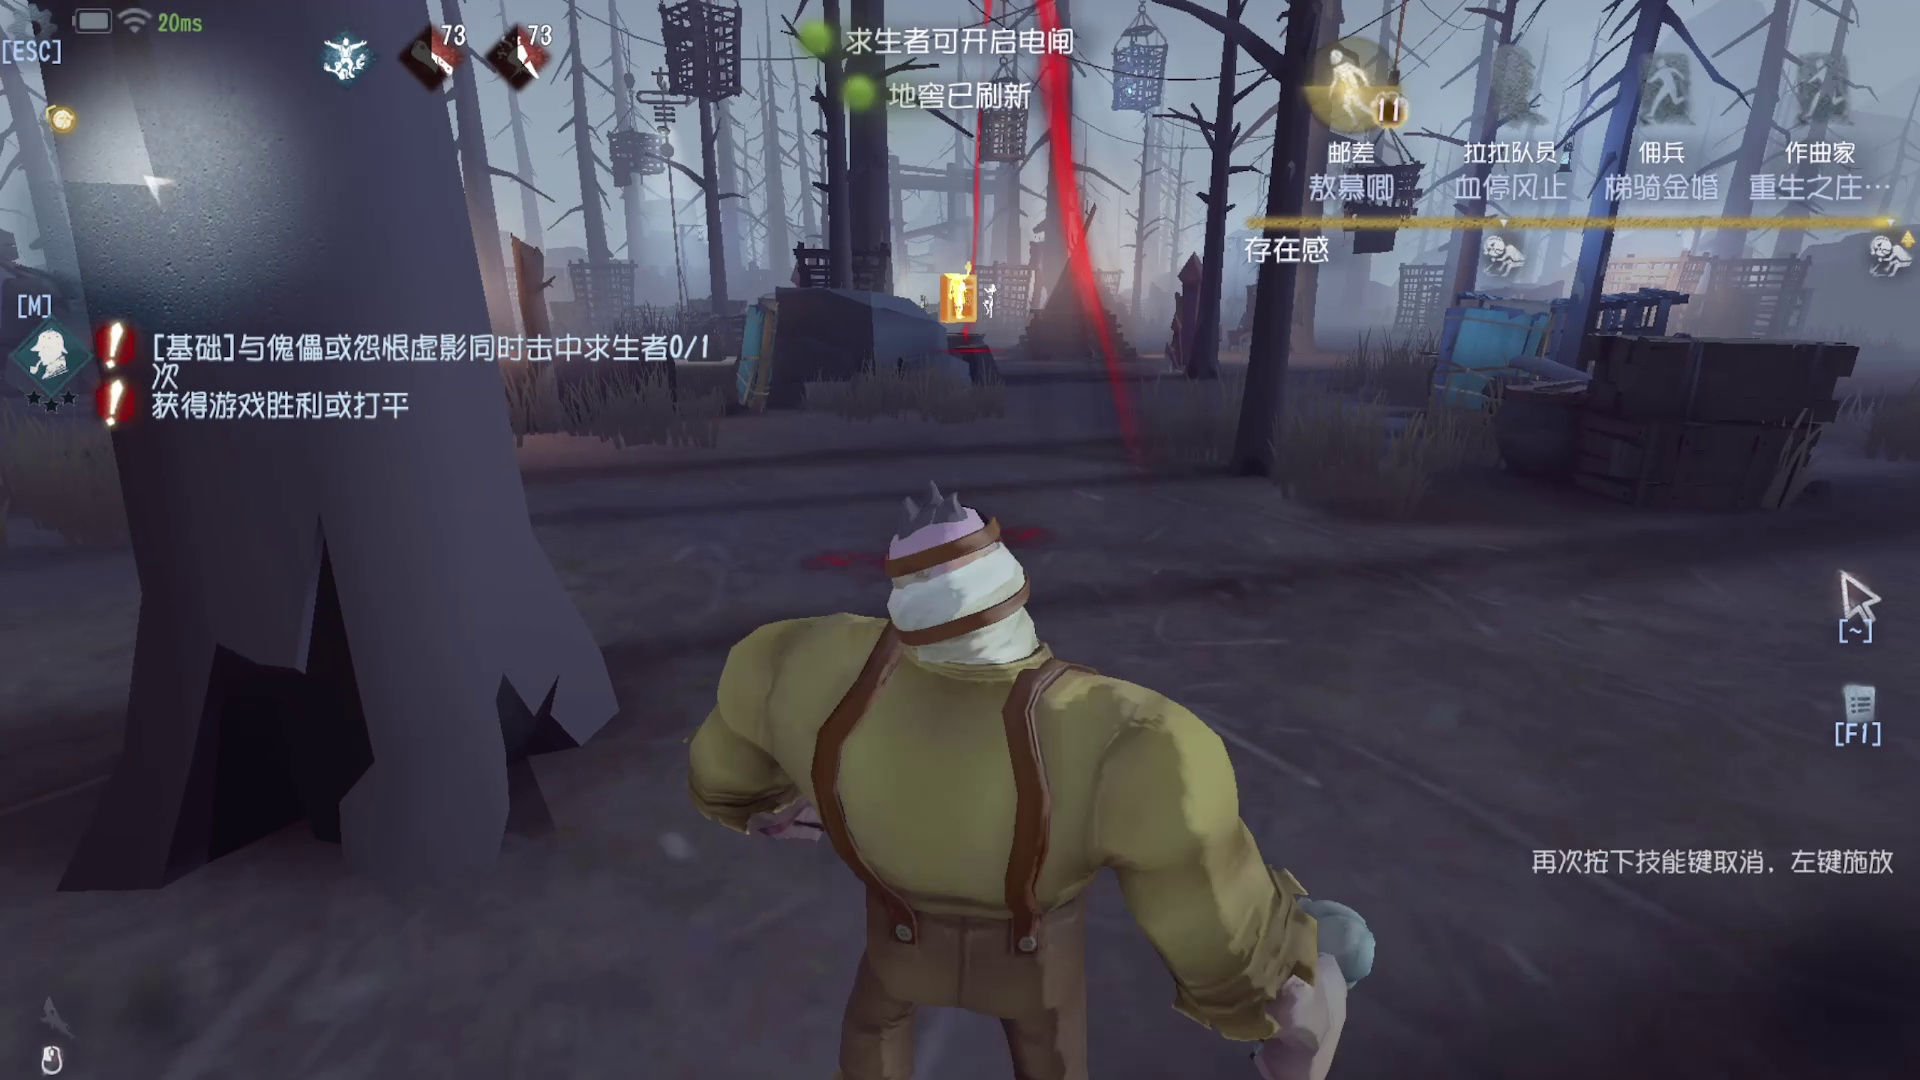木板: (1420, 272, 1586, 440), (727, 291, 798, 419)
狂欢之椅: (1142, 247, 1220, 375)
设置: (1, 1, 96, 82)
